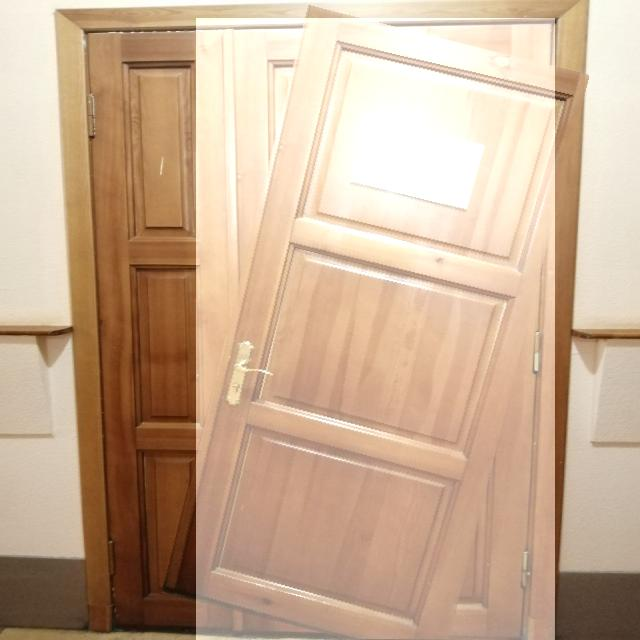doorhandle: (196, 18, 555, 640), (242, 382, 304, 422)
